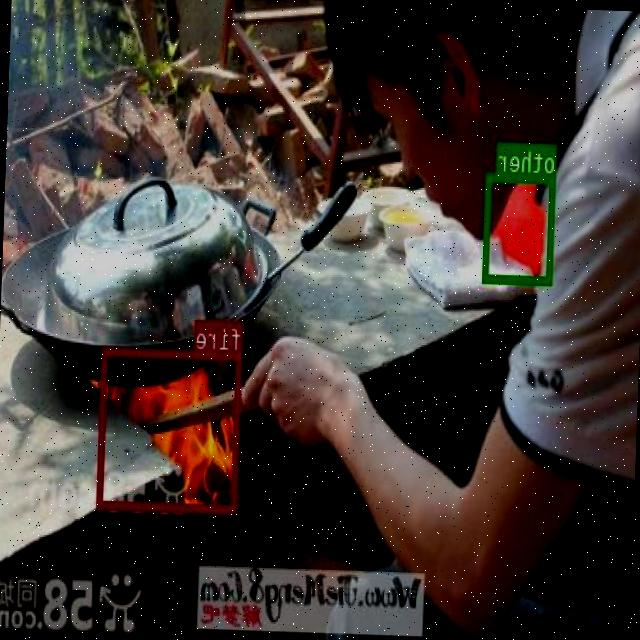fire: (98, 346, 242, 512)
